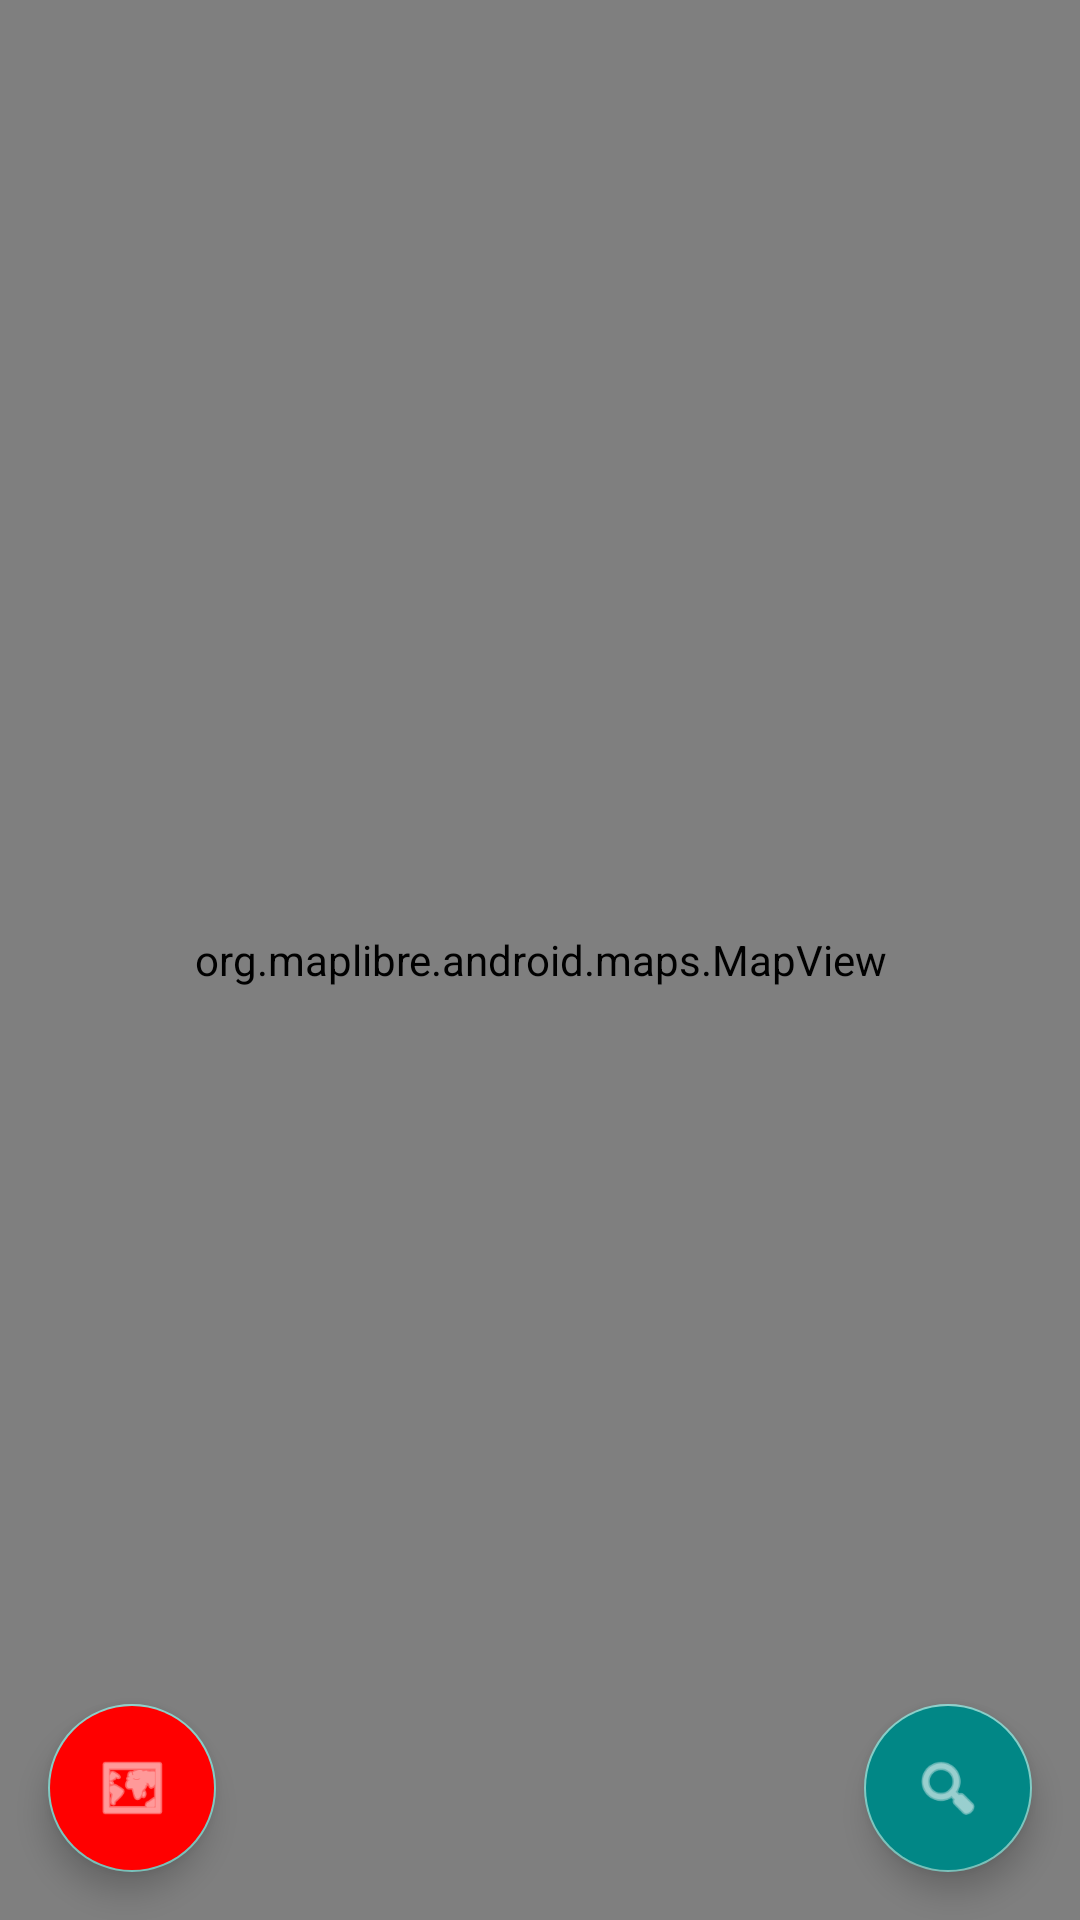

Where to tap for icons on this 1080px x 1920px app screen, as (x=x, y=y):
Buscar ruta: (x=948, y=1788)
Ubicar en mapa: (x=132, y=1788)
